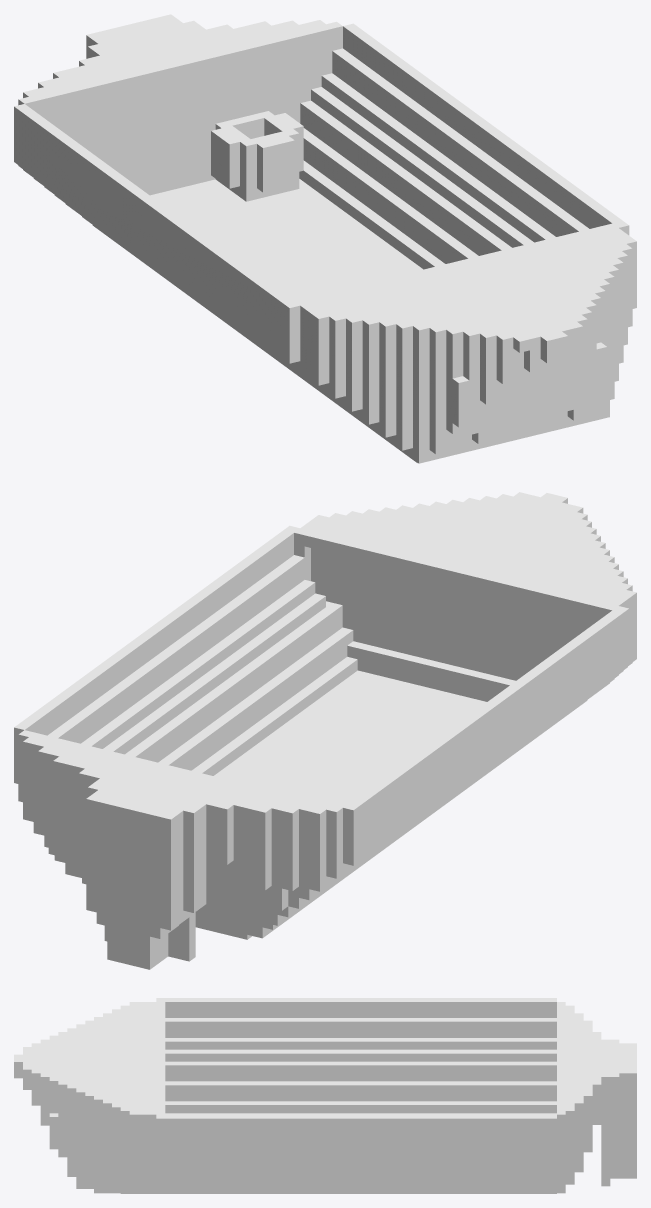
File: MotorBoat.obj
3 renders of one model, top to bottom at view 1: azimuth 30°, elevation 25°; view 2: azimuth 150°, elevation 25°; view 3: azimuth 270°, elevation 25°, orthographic. The views are drawn at different scales.
Size of the model in its own units: 3.2 by 1.4 by 7.
